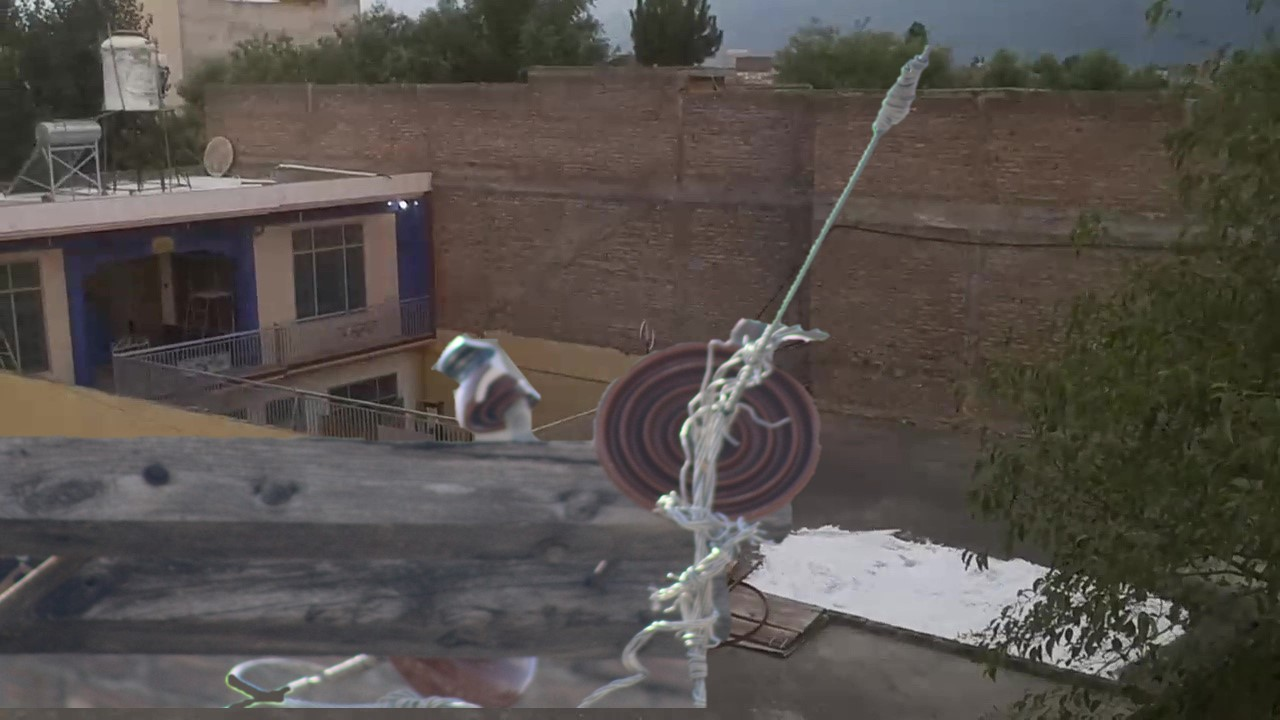defect_pin: (428, 324, 542, 443)
insulator_disc: (589, 331, 830, 527)
